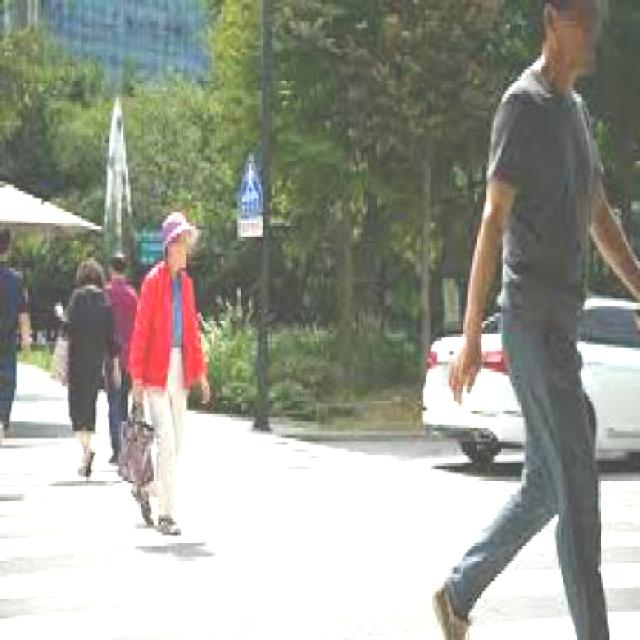Person: (428, 0, 638, 637), (131, 216, 207, 532), (57, 256, 117, 484), (102, 254, 138, 466)
